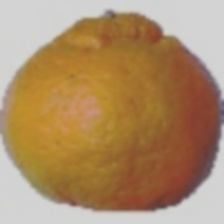tangerine: (11, 39, 206, 221)
